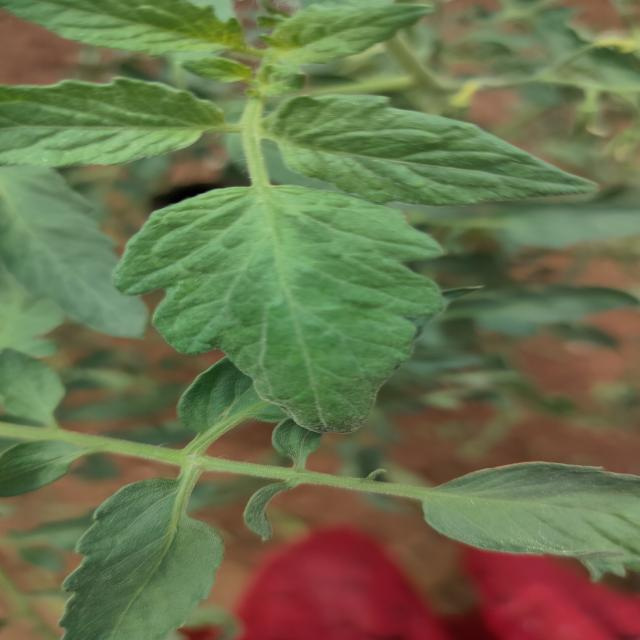tomato_healthy: (119, 185, 440, 434), (261, 94, 604, 200), (66, 480, 222, 640)
